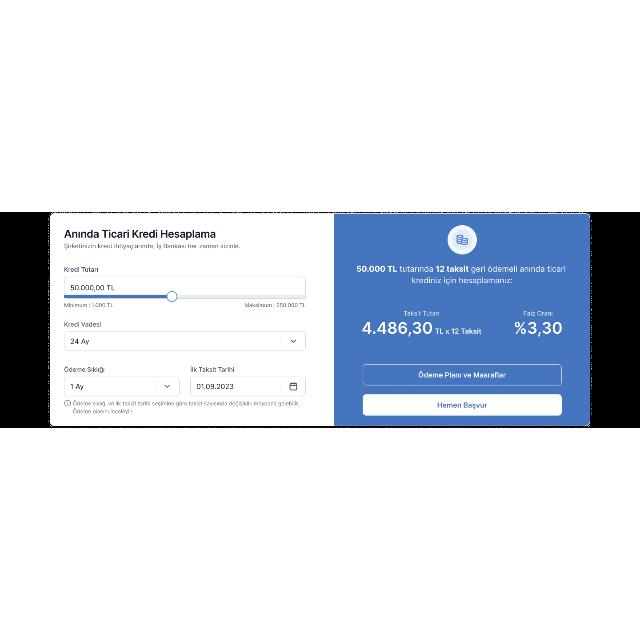QLabel: (73, 400, 301, 408), (62, 229, 216, 239), (62, 242, 242, 250), (361, 321, 434, 337), (512, 320, 564, 338), (411, 277, 513, 285), (471, 266, 567, 274), (416, 372, 506, 378), (435, 402, 489, 411), (72, 409, 138, 415), (188, 366, 236, 374), (64, 366, 108, 374), (434, 264, 470, 272), (436, 328, 482, 334), (63, 322, 104, 328), (357, 266, 398, 272), (61, 266, 100, 272), (402, 310, 441, 316), (400, 266, 434, 272), (522, 311, 552, 317)
VBtn: (362, 365, 562, 387), (362, 395, 562, 417)
VCard: (49, 214, 590, 428)
VCombobox: (64, 332, 306, 352), (64, 377, 180, 398)
VIcon: (448, 225, 477, 255), (63, 400, 71, 408)
VInlineDatepicker: (190, 377, 306, 397)
null: (62, 275, 308, 311)
